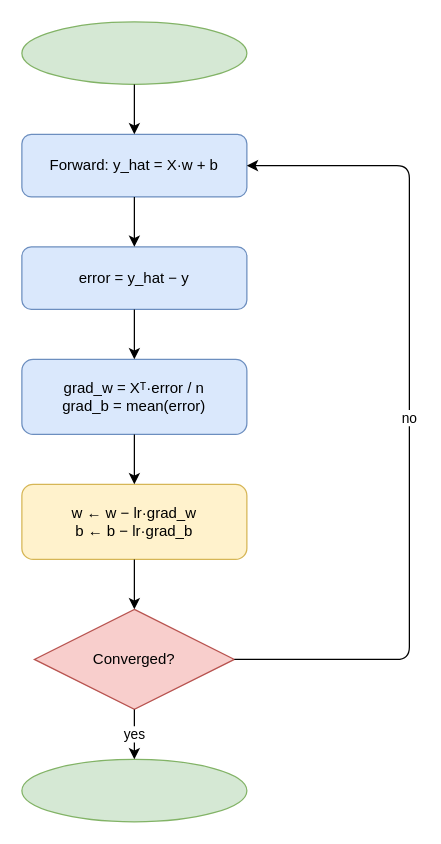
Some shapes in this 441 by 844 pixel diagram are drawn without their labels. Each missing label, with the centre of its shape:
Return w, b: (x=134, y=790)
Start: init w,b (zeros): (x=134, y=52)
